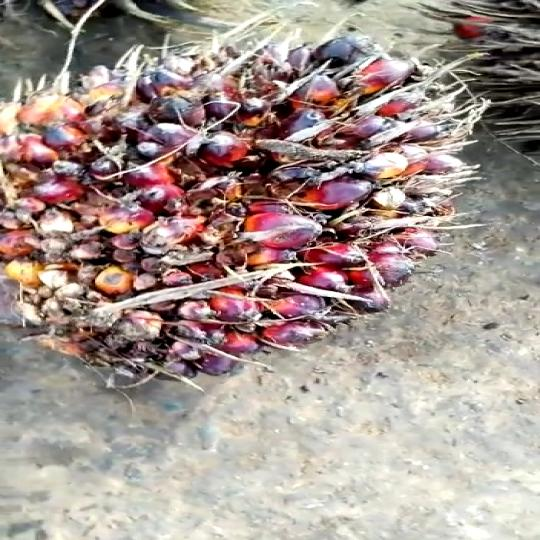masak: (0, 31, 457, 386)
